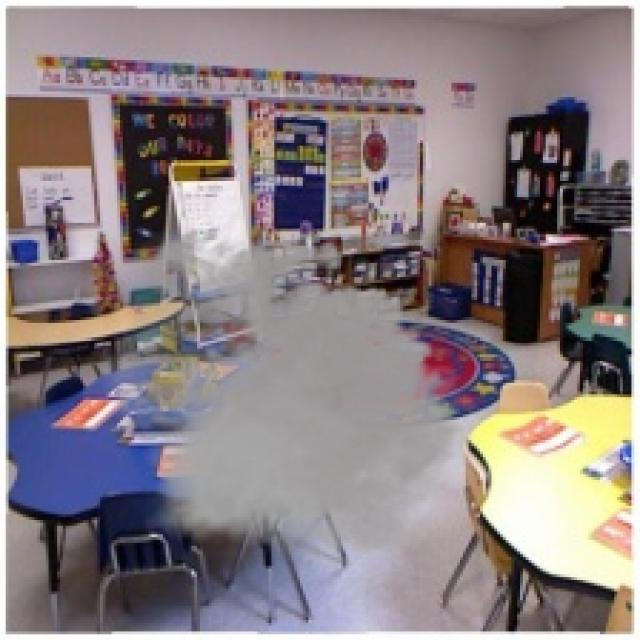Smoke: (91, 217, 486, 569)
